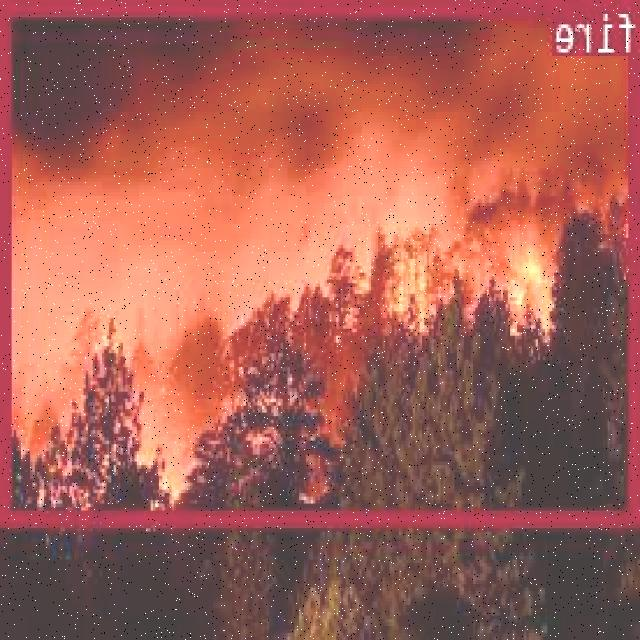fire: (5, 0, 640, 521)
